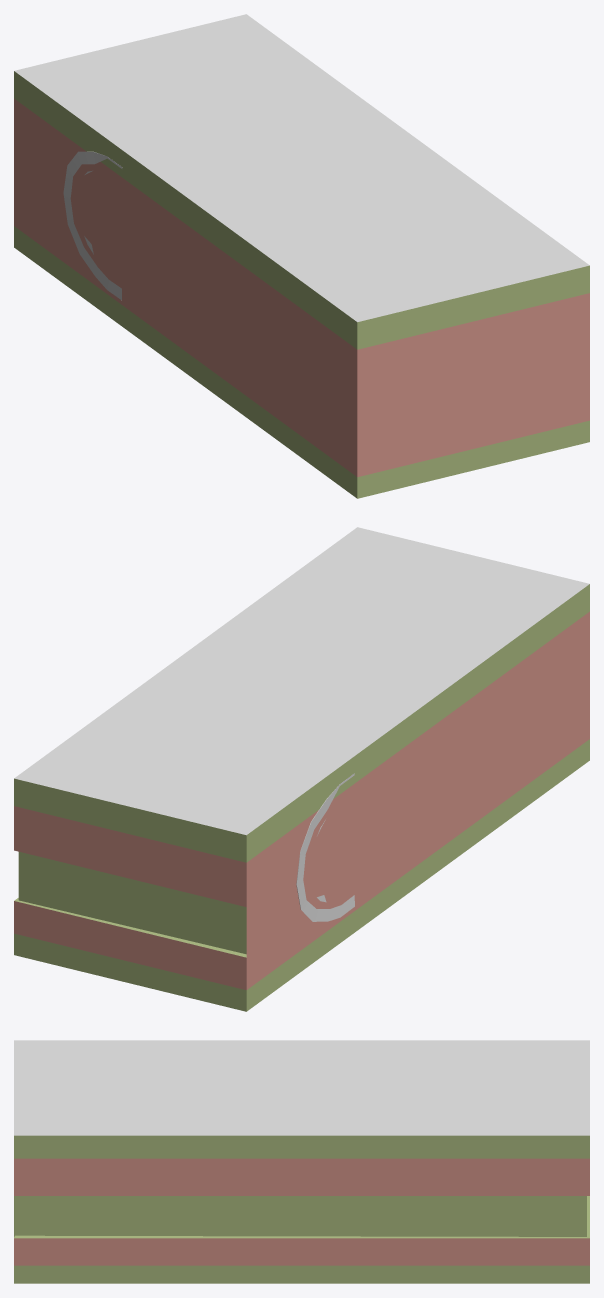
The model's file is green_interior.fbx.
3 views of the same model, one above another, from view 1: azimuth 30°, elevation 25°; view 2: azimuth 150°, elevation 25°; view 3: azimuth 270°, elevation 25° (orthographic). The views are drawn at different scales.
Visible parts, largest first — view 1: Walls, mirror_part; view 2: Walls, mirror_part; view 3: Walls.
Boxes of the visible parts, left/top/right/bottom form: Walls: left=14, top=14, right=589, bottom=498; mirror_part: left=63, top=151, right=122, bottom=300; Walls: left=14, top=527, right=589, bottom=1011; mirror_part: left=296, top=773, right=354, bottom=921; Walls: left=14, top=1040, right=589, bottom=1283.
Bounding box in the file's own units: 30.17 × 22.81 × 77.06.
